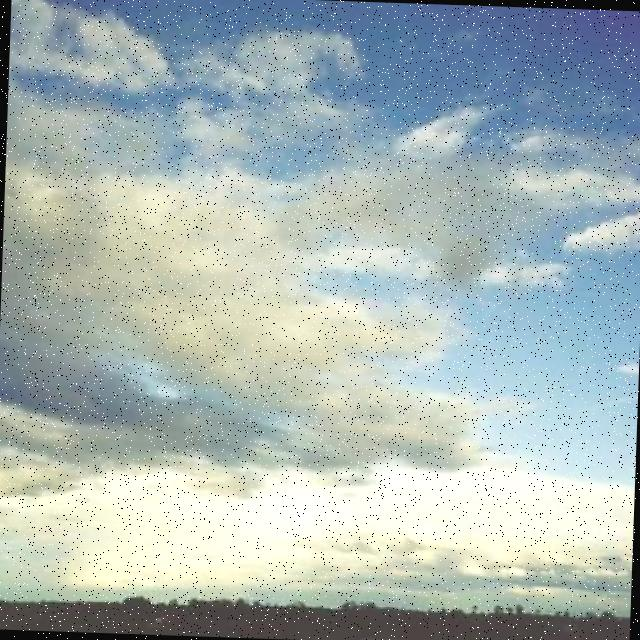Ns: (1, 72, 640, 500)
